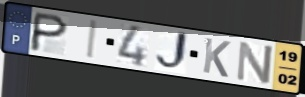4: (116, 24, 150, 69)
I: (85, 19, 100, 61)
J: (154, 29, 190, 73)
K: (201, 36, 233, 80)
N: (234, 39, 275, 86)
P: (27, 11, 71, 54)
